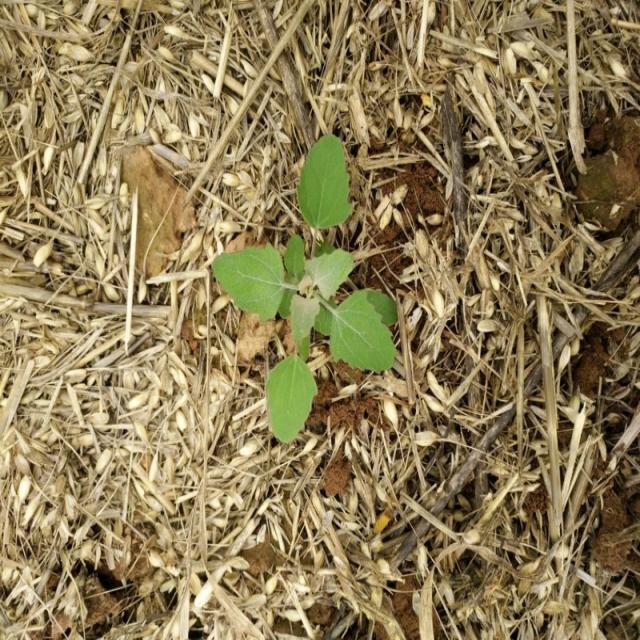ca: (215, 140, 396, 443)
